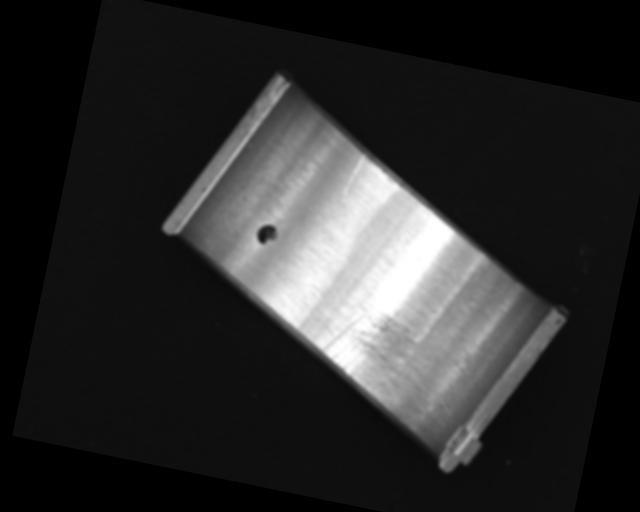blot: (254, 221, 280, 247)
nick: (343, 152, 365, 197)
scratch: (310, 296, 437, 428)
